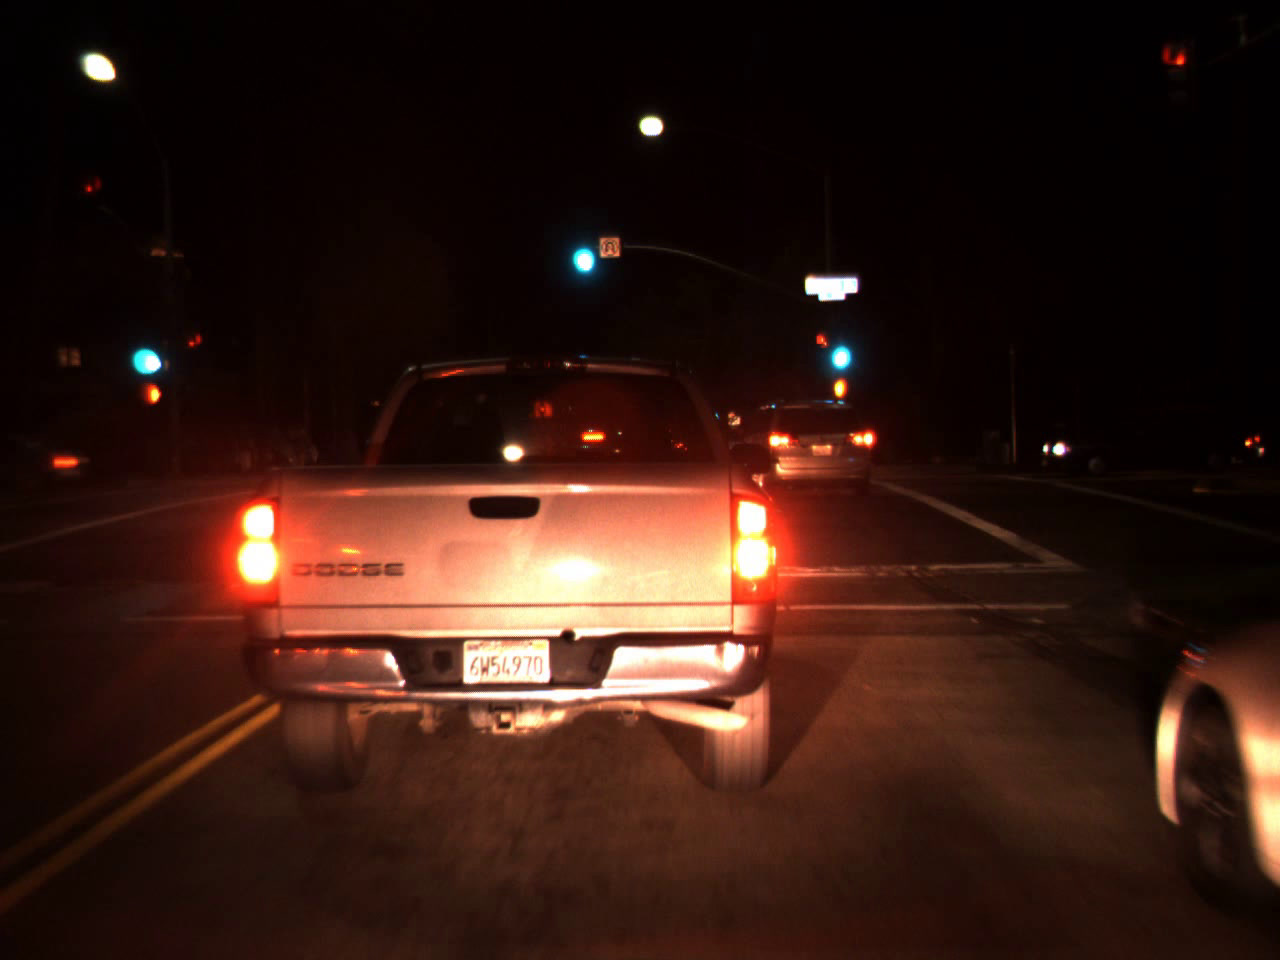go: (122, 315, 163, 384), (564, 214, 600, 283), (823, 315, 855, 378)
